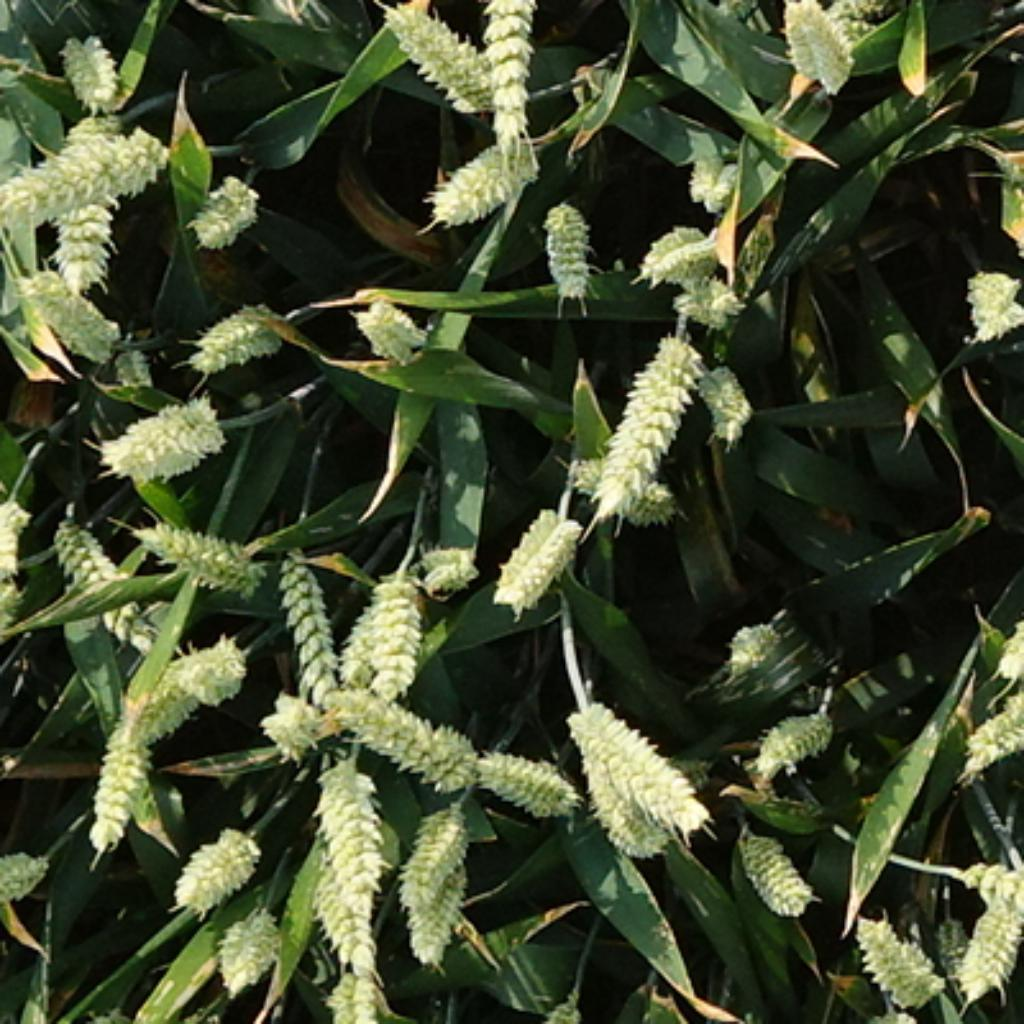0-0: (583, 320, 706, 514), (48, 506, 179, 665), (304, 750, 389, 970), (565, 701, 711, 826), (2, 128, 168, 230), (112, 622, 248, 739), (330, 678, 481, 783), (381, 0, 506, 120), (53, 112, 125, 296), (94, 384, 230, 476), (87, 699, 163, 863), (424, 130, 542, 230), (573, 742, 670, 860), (494, 504, 591, 619), (130, 506, 268, 586), (10, 263, 120, 355), (476, 0, 542, 151), (847, 903, 942, 1003), (271, 542, 335, 683), (166, 814, 263, 906), (363, 573, 435, 696), (186, 289, 294, 368), (399, 791, 471, 908), (737, 829, 824, 923), (471, 737, 576, 814), (40, 186, 122, 279), (570, 458, 680, 527), (952, 893, 1024, 998), (775, 0, 857, 92), (750, 703, 839, 785), (407, 855, 468, 970), (960, 673, 1024, 778), (181, 166, 261, 250), (536, 203, 600, 308), (212, 906, 284, 995), (960, 844, 1024, 944), (350, 289, 430, 360), (639, 220, 723, 287), (53, 23, 120, 102), (960, 263, 1024, 343), (668, 258, 747, 322), (699, 357, 758, 442), (176, 642, 248, 711), (263, 680, 330, 750), (335, 599, 384, 693), (320, 962, 394, 1024), (686, 135, 750, 204), (724, 616, 791, 678), (412, 545, 478, 599), (0, 496, 27, 622), (0, 838, 50, 900), (1021, 704, 1024, 762)
